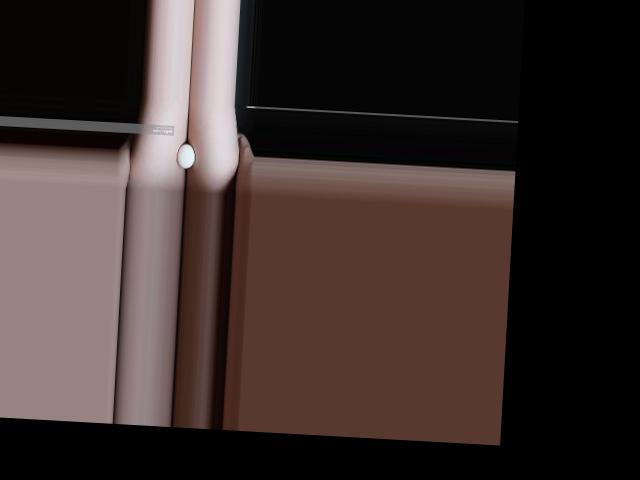egg: (176, 143, 195, 168)
